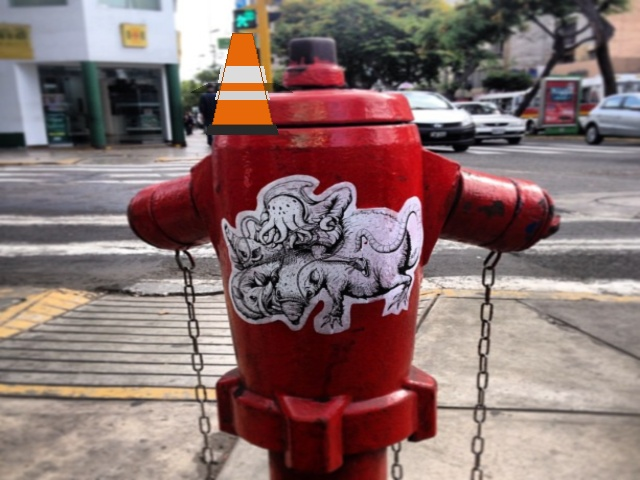traffic-cone: (206, 33, 278, 134)
